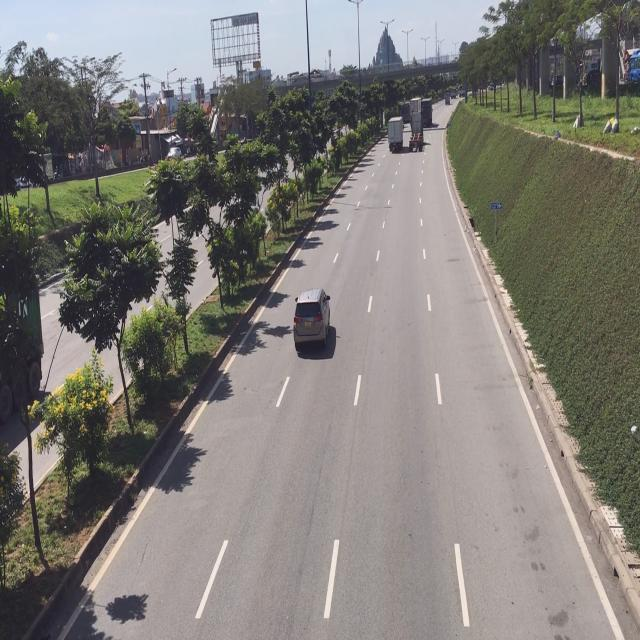car: (292, 290, 333, 358)
truck: (408, 111, 425, 152), (386, 115, 404, 153)
